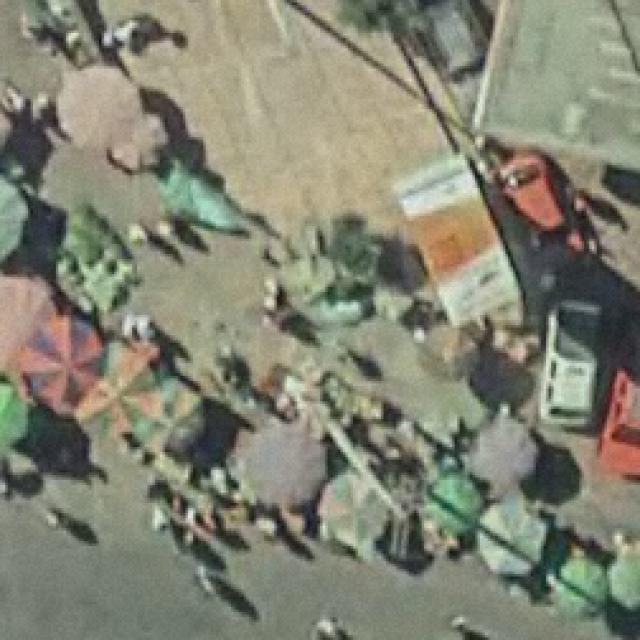vendedor_ambulante: (8, 314, 106, 416), (73, 343, 159, 445), (54, 65, 139, 153), (240, 428, 332, 508), (126, 375, 206, 463), (0, 272, 61, 381), (476, 500, 552, 586), (315, 469, 391, 552), (465, 417, 537, 493), (546, 554, 612, 622), (419, 472, 485, 540), (0, 173, 31, 275), (0, 378, 36, 460), (607, 551, 640, 622)
